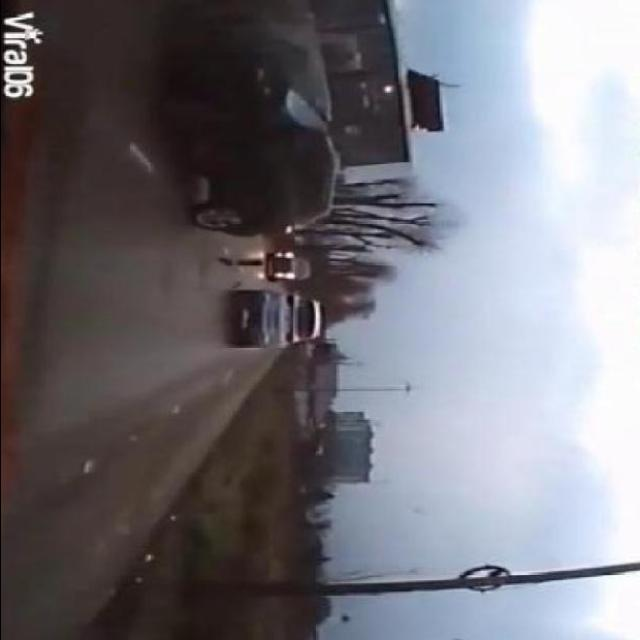accident: (173, 0, 411, 244)
